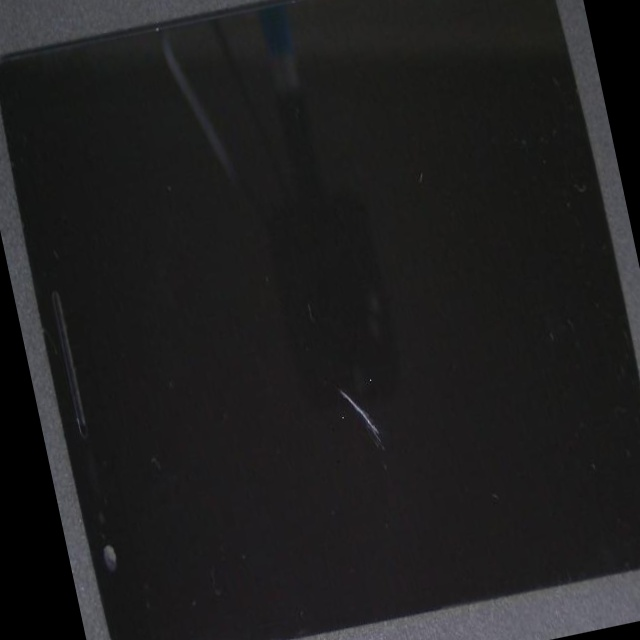scratch: (101, 102, 543, 640)
